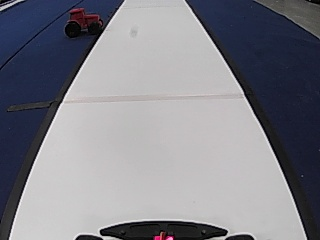tractor: (62, 6, 105, 37)
